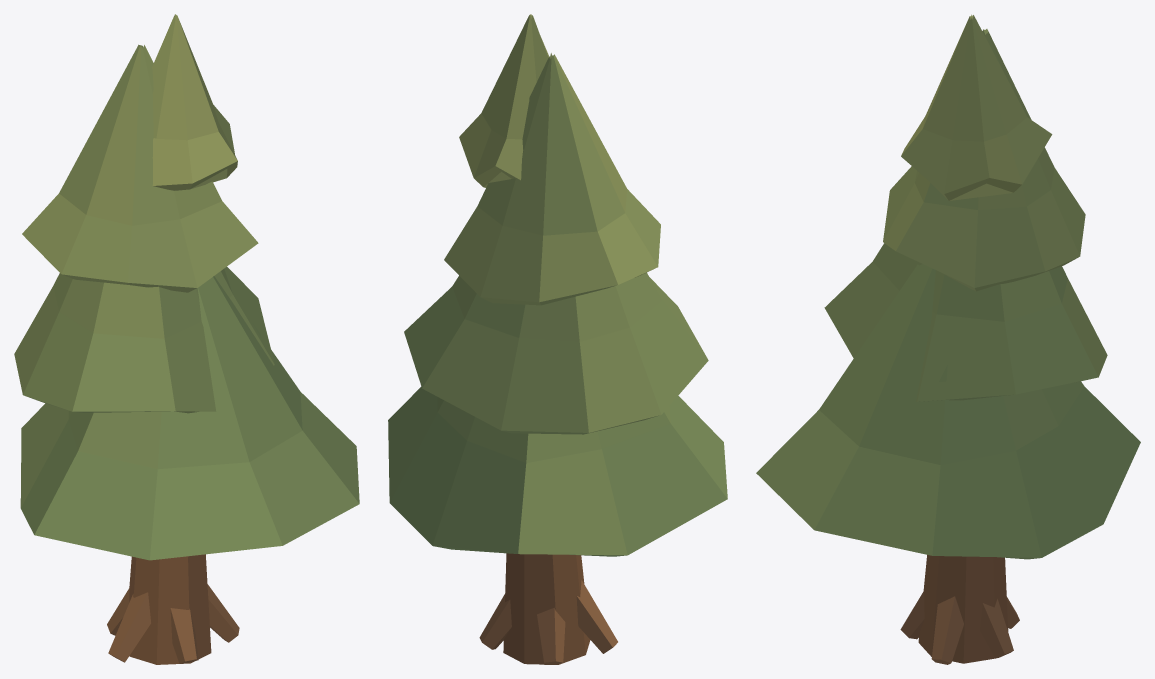
File: forage_1_summer.glb
3 views of the same model, side by side, from view 1: azimuth 30°, elevation 25°; view 2: azimuth 150°, elevation 25°; view 3: azimuth 270°, elevation 25° (orthographic).
Parts seen in each view (by area): view 1: Rohstoff 1 · summer; view 2: Rohstoff 1 · summer; view 3: Rohstoff 1 · summer.
Part boxes in pixels (x1,y1,x2,y2): Rohstoff 1 · summer: [14, 14, 359, 664]; Rohstoff 1 · summer: [388, 14, 727, 664]; Rohstoff 1 · summer: [756, 14, 1140, 664].
Size of the model in its own units: 2.73 by 4.97 by 2.73.
